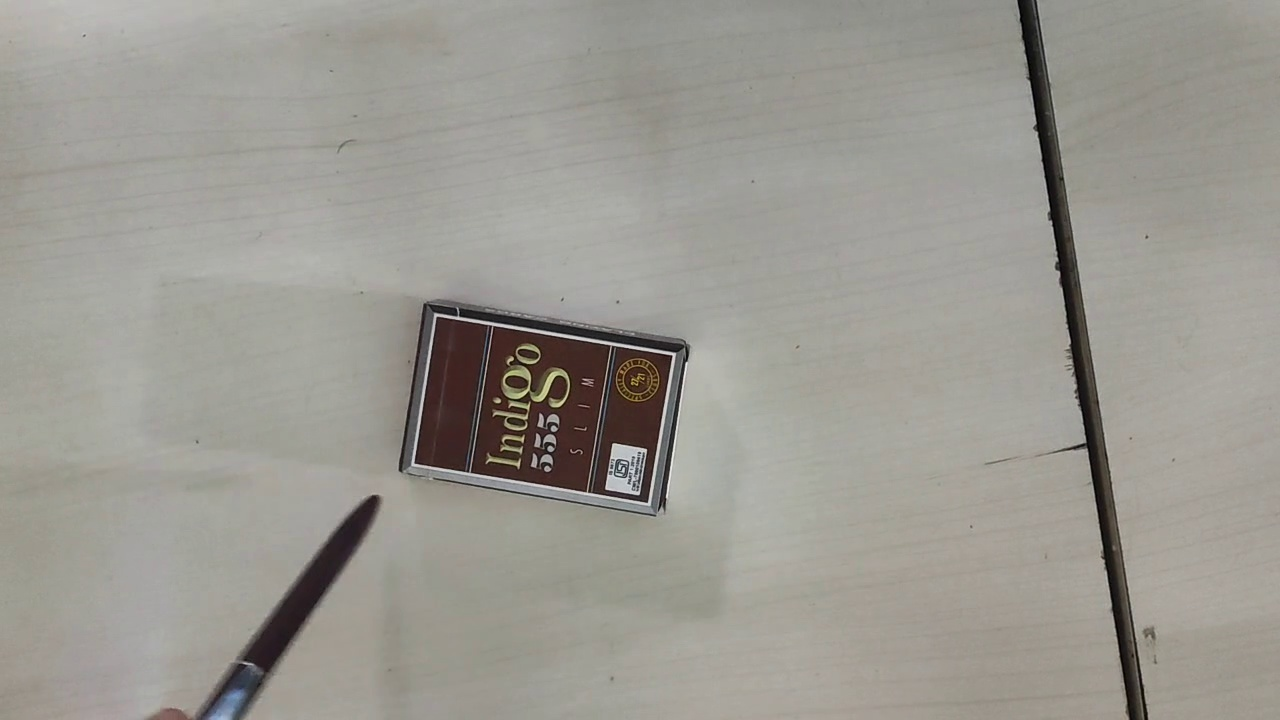BEX: (413, 314, 676, 501)
